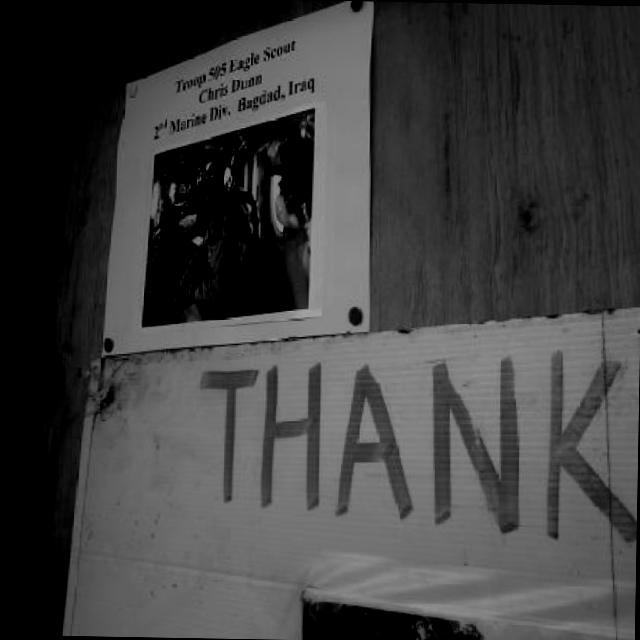Person: (174, 150, 264, 320)
